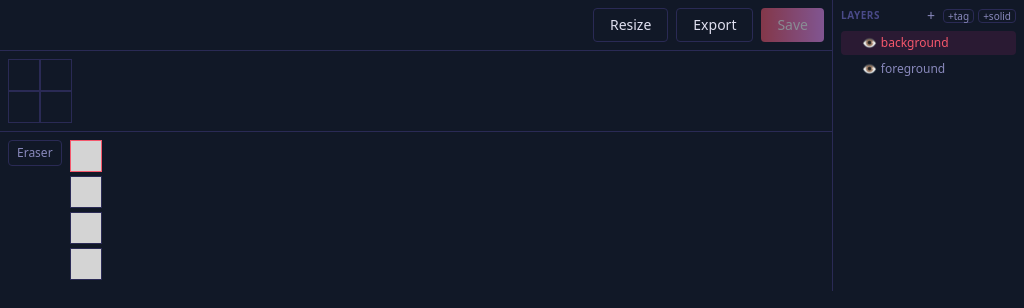
Test: TileMapEditor — marker layers › switching to a marker layer shows the tag picker instead of the tile palette
This screenshot has width=1024, height=308.
Expected: the text "background" is shown, [881, 34, 949, 51]
Click the button with aria-label "Add marker layer". click: (959, 16)
box: [943, 8, 974, 22]
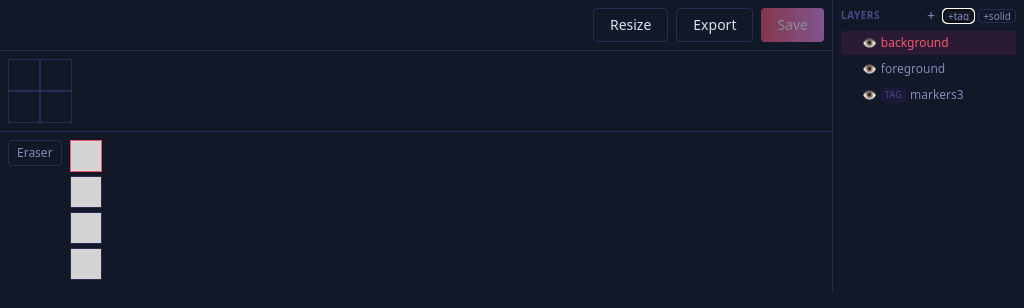
Click the text "markers3". click: (937, 94)
box: [910, 86, 964, 103]
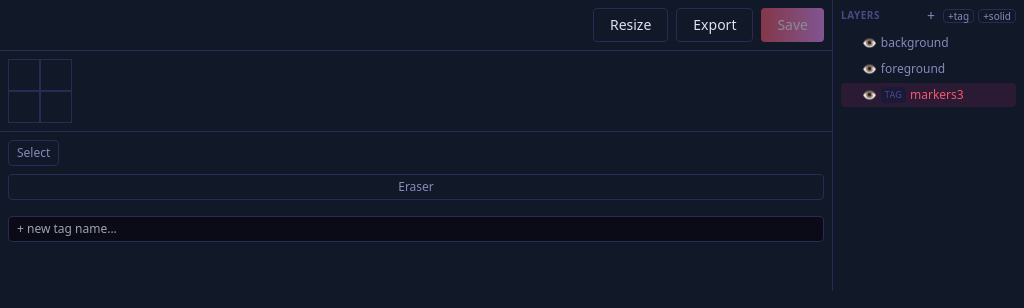
Now the field labelled "new tag name" is shown, box [8, 216, 824, 242]
